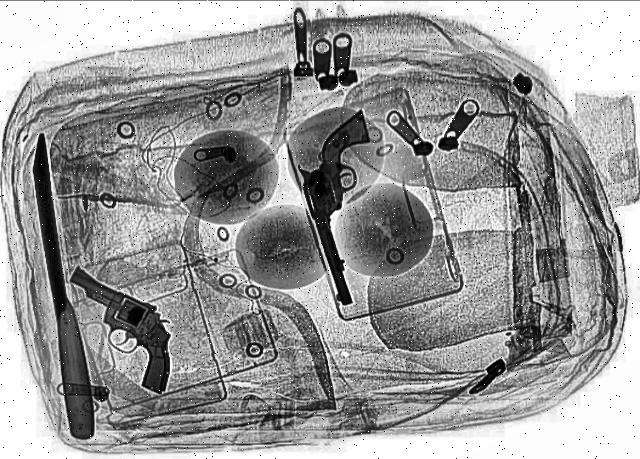Gun: (13, 265, 226, 395), (285, 108, 411, 306)
Knife: (29, 131, 99, 439)
